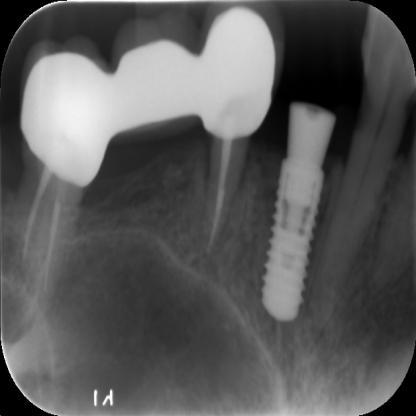ITI: (247, 141, 331, 332)
